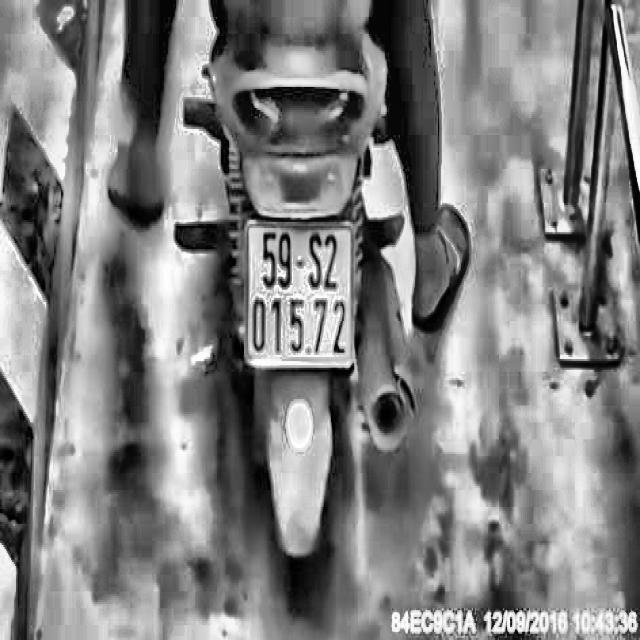plate: (239, 210, 360, 373)
